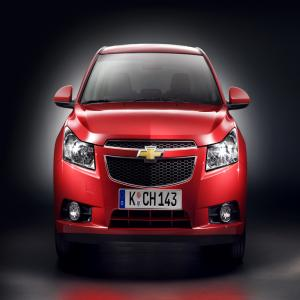Vehicle-registration-plate: (119, 188, 183, 210)
